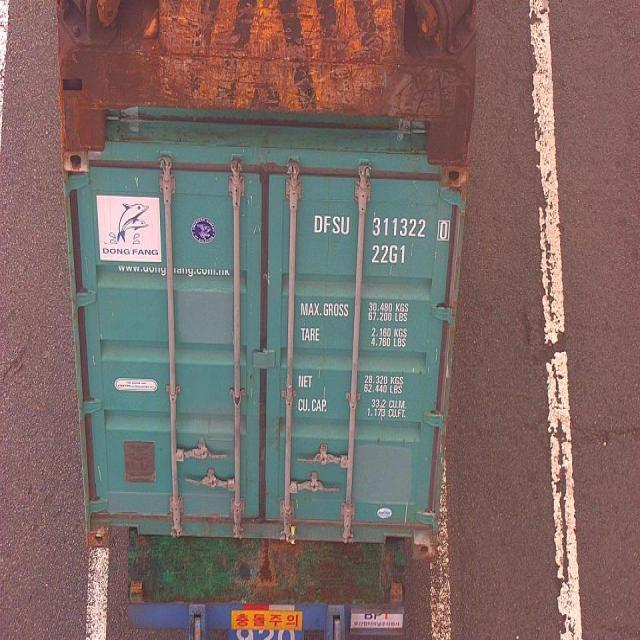ISO: (372, 243, 410, 266)
container_number: (315, 217, 451, 240)
